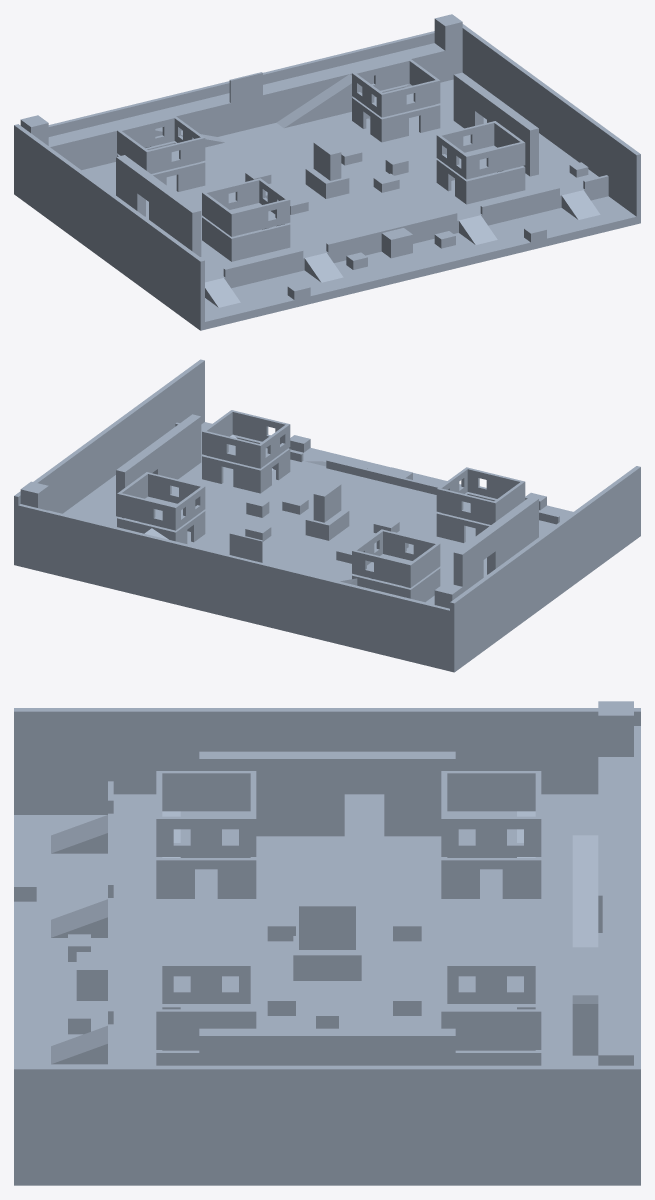
Rendered from orleans_collision.glb.
3 renders of one model, top to bottom at view 1: azimuth 30°, elevation 25°; view 2: azimuth 150°, elevation 25°; view 3: azimuth 270°, elevation 25°, orthographic. The views are drawn at different scales.
Parts seen in each view (by area): view 1: COL_floor_town, COL_boundary_x_-1, COL_quay_floor, COL_rampart_walk, COL_boundary_x_1, COL_rampart_parapet, COL_gate_wall_west_s, COL_rampart_stair_1, COL_gate_wall_east_s, COL_house_sw_g_back, COL_house_se_g_back, COL_gate_wall_east_n (+26 smaller); view 2: COL_floor_town, COL_rampart_parapet, COL_boundary_x_-1, COL_boundary_x_1, COL_gate_wall_east_s, COL_gate_wall_west_s, COL_quay_floor, COL_gate_wall_west_n, COL_quay_parapet_centre, COL_statue, COL_statue_plinth, COL_house_nw_u_out (+17 smaller); view 3: COL_floor_town, COL_boundary_x_1, COL_boundary_x_-1, COL_quay_floor, COL_rampart_walk, COL_gate_wall_west_s, COL_gate_wall_east_s, COL_gate_wall_west_n, COL_house_ne_u_out, COL_house_nw_u_out, COL_house_sw_u_out, COL_rampart_stair_-1 (+35 smaller).
Boxes of the visible parts, x1,y1,x2,y2 form: COL_floor_town: (14, 79, 608, 309); COL_boundary_x_-1: (14, 124, 204, 322); COL_quay_floor: (172, 196, 640, 330); COL_rampart_walk: (48, 43, 462, 170); COL_boundary_x_1: (462, 24, 640, 216); COL_rampart_parapet: (48, 31, 434, 136); COL_gate_wall_west_s: (149, 179, 201, 256); COL_rampart_stair_1: (276, 74, 353, 128); COL_gate_wall_east_s: (487, 97, 538, 176); COL_house_sw_g_back: (233, 224, 287, 260); COL_house_se_g_back: (468, 166, 522, 203); COL_gate_wall_east_n: (453, 72, 483, 128); COL_floor_town: (14, 436, 612, 672); COL_rampart_parapet: (18, 504, 449, 651); COL_boundary_x_-1: (450, 466, 640, 664); COL_boundary_x_1: (14, 359, 204, 550); COL_gate_wall_east_s: (149, 414, 201, 479); COL_gate_wall_west_s: (487, 496, 538, 574); COL_quay_floor: (201, 422, 640, 556); COL_gate_wall_west_n: (453, 537, 483, 592); COL_quay_parapet_centre: (326, 459, 439, 494); COL_statue: (313, 481, 341, 522); COL_statue_plinth: (305, 508, 349, 540); COL_house_nw_u_out: (407, 543, 440, 587); COL_floor_town: (108, 794, 640, 1185); COL_boundary_x_1: (14, 1065, 640, 1172); COL_boundary_x_-1: (14, 708, 640, 814); COL_quay_floor: (14, 815, 107, 1185); COL_rampart_walk: (598, 757, 633, 1040); COL_gate_wall_west_s: (199, 751, 344, 836); COL_gate_wall_east_s: (199, 1028, 344, 1065); COL_gate_wall_west_n: (384, 751, 455, 836); COL_house_ne_u_out: (441, 1009, 541, 1049); COL_house_nw_u_out: (441, 771, 541, 811); COL_house_sw_u_out: (156, 771, 256, 811); COL_rampart_stair_-1: (572, 835, 598, 947).
Bounding box in the file's own units: 60 × 9.8 × 44.
